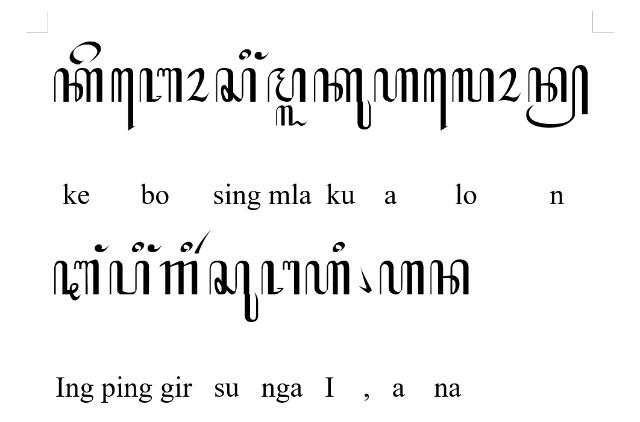-n: (526, 63, 588, 128)
I: (53, 259, 99, 301)
_l: (275, 104, 309, 126)
_r1: (193, 229, 211, 253)
b: (138, 68, 182, 102)
e: (69, 41, 101, 65)
e1: (110, 67, 136, 131), (424, 68, 448, 130)
g: (160, 261, 198, 296)
h: (304, 260, 350, 296), (380, 261, 424, 296), (374, 68, 418, 102)
i: (238, 49, 252, 62), (332, 240, 346, 253), (132, 241, 144, 253), (180, 241, 192, 253)
k: (53, 67, 103, 103)
kom: (358, 265, 372, 294)
ku: (313, 67, 371, 130)
l: (451, 66, 495, 104)
m: (267, 67, 307, 103)
n: (430, 260, 470, 296)
ng: (254, 50, 270, 60), (94, 243, 110, 252), (148, 243, 162, 253)
nga: (260, 259, 300, 295)
o: (184, 67, 210, 103), (497, 68, 521, 102)
p: (109, 261, 150, 296)
s: (215, 67, 257, 103)
su: (209, 261, 259, 324)
